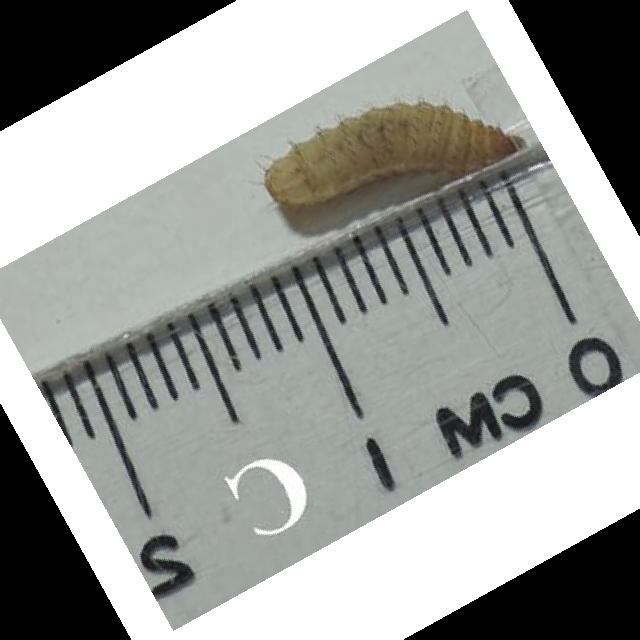Maggot: (267, 99, 515, 212)
